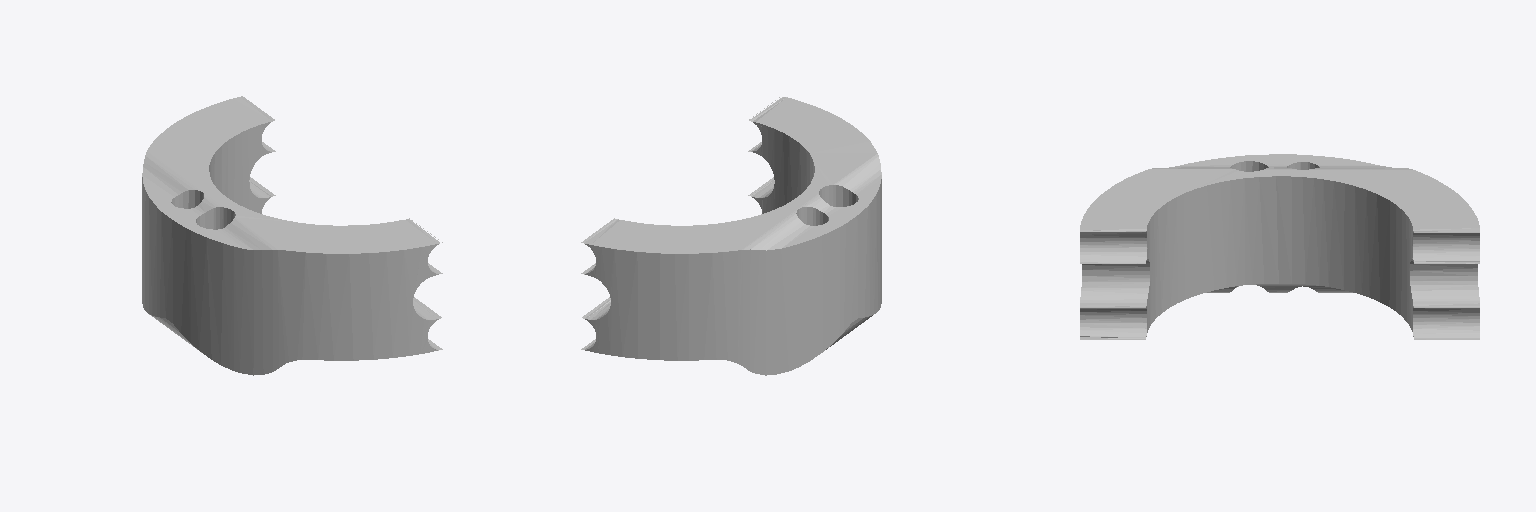
File: seg9.OBJ
3 views of the same model, side by side, from view 1: azimuth 30°, elevation 25°; view 2: azimuth 150°, elevation 25°; view 3: azimuth 270°, elevation 25° (orthographic).
Visible parts, largest first — view 1: /ambf/env/seg9_seg9; view 2: /ambf/env/seg9_seg9; view 3: /ambf/env/seg9_seg9.
Boxes of the visible parts, <box> form: /ambf/env/seg9_seg9: <box>142,96,442,375</box>; /ambf/env/seg9_seg9: <box>581,97,881,375</box>; /ambf/env/seg9_seg9: <box>1080,154,1479,339</box>.
Bounding box in the file's own units: 0.003 × 0.0022 × 0.006.